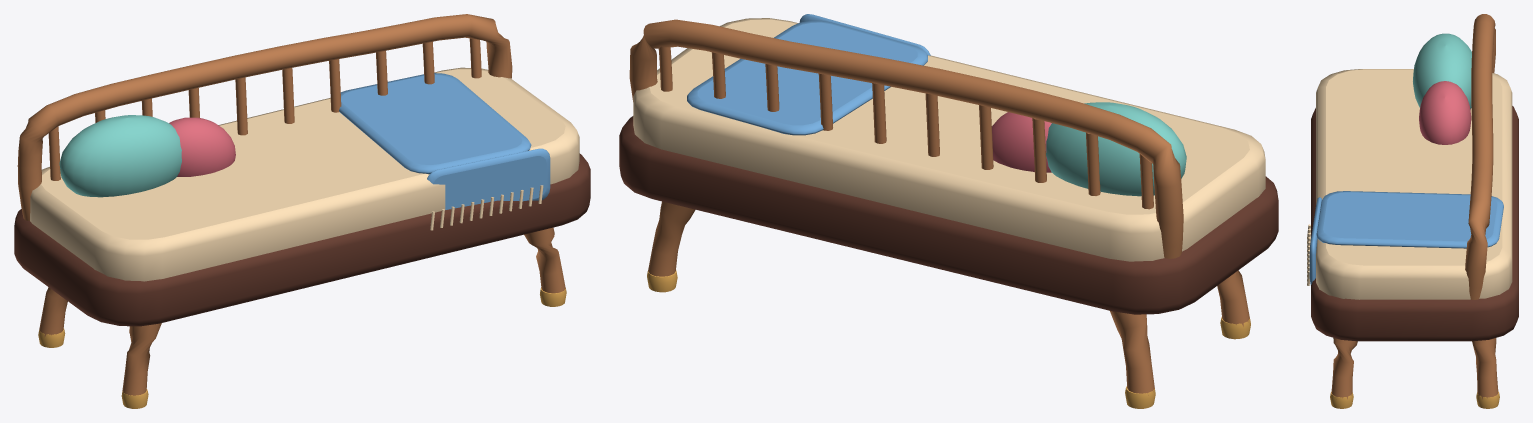
The model's file is atelier_daybed.glb.
3 renders of one model, left to right at view 1: azimuth 30°, elevation 25°; view 2: azimuth 150°, elevation 25°; view 3: azimuth 270°, elevation 25°, orthographic. The views are drawn at different scales.
Parts seen in each view (by area): view 1: Diván de lino; view 2: Diván de lino; view 3: Diván de lino.
Part boxes in pixels (left/top/right/bottom): Diván de lino: left=14, top=14, right=590, bottom=408; Diván de lino: left=619, top=14, right=1278, bottom=408; Diván de lino: left=1307, top=14, right=1518, bottom=408.
Bounding box in the file's own units: 1.82 × 0.8595 × 0.7652.
